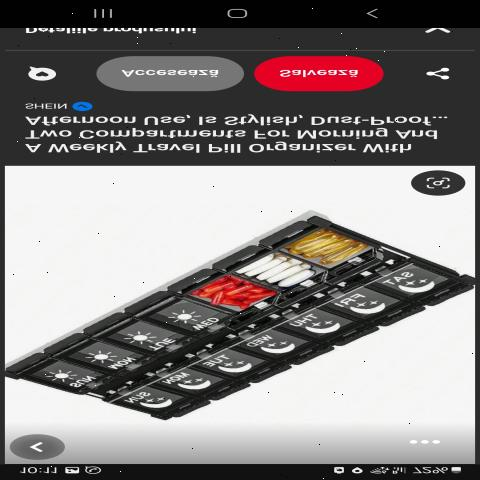PillBox: (6, 210, 480, 425)
